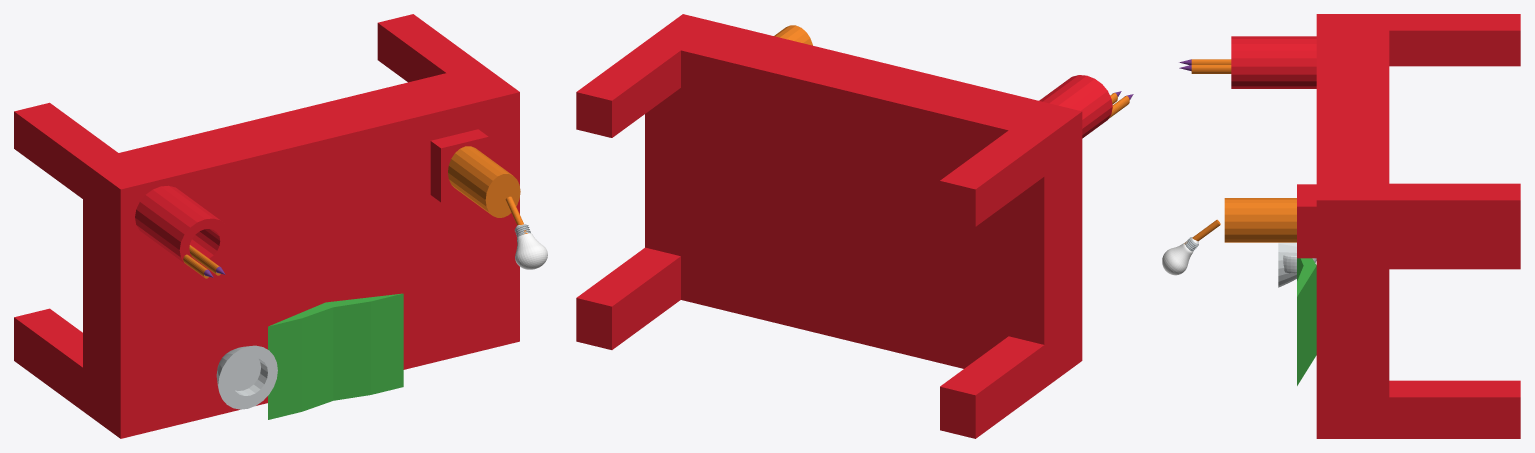
Rendered from tinker.obj.
3 views of the same model, side by side, from view 1: azimuth 30°, elevation 25°; view 2: azimuth 150°, elevation 25°; view 3: azimuth 270°, elevation 25° (orthographic). The views are drawn at different scales.
Parts seen in each view (by area): view 1: group_0_15277357, group_0_4634441, group_0_16089887, group_0_14541540, group_0_16448250; view 2: group_0_15277357, group_0_16089887; view 3: group_0_15277357, group_0_16089887, group_0_4634441, group_0_14541540, group_0_16448250.
Part boxes in pixels (x1,y1,x2,y2): group_0_15277357: [14, 14, 519, 438]; group_0_4634441: [268, 293, 403, 419]; group_0_16089887: [183, 146, 527, 278]; group_0_14541540: [216, 345, 277, 409]; group_0_16448250: [515, 224, 547, 269]; group_0_15277357: [576, 14, 1112, 438]; group_0_16089887: [774, 25, 1129, 118]; group_0_15277357: [1231, 14, 1520, 438]; group_0_16089887: [1184, 59, 1296, 243]; group_0_4634441: [1297, 258, 1316, 385]; group_0_14541540: [1278, 242, 1316, 287]; group_0_16448250: [1162, 237, 1198, 275].
Bounding box in the file's own units: 67 × 41.12 × 54.49.
